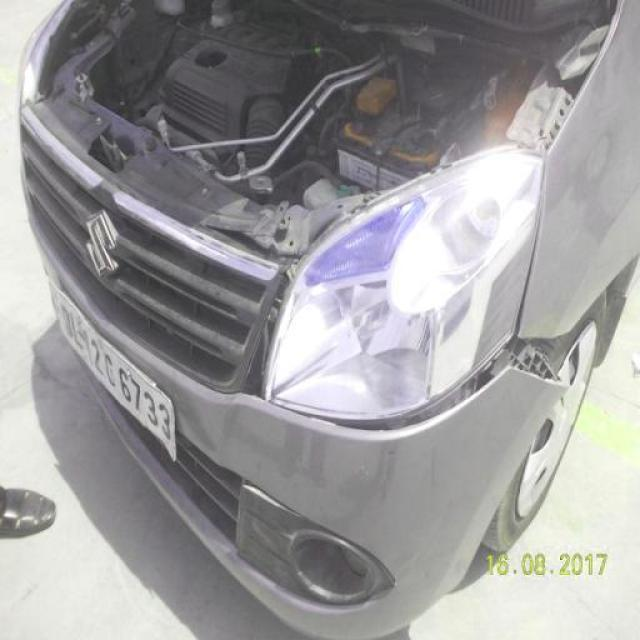Car-Damage: (265, 336, 573, 436)
